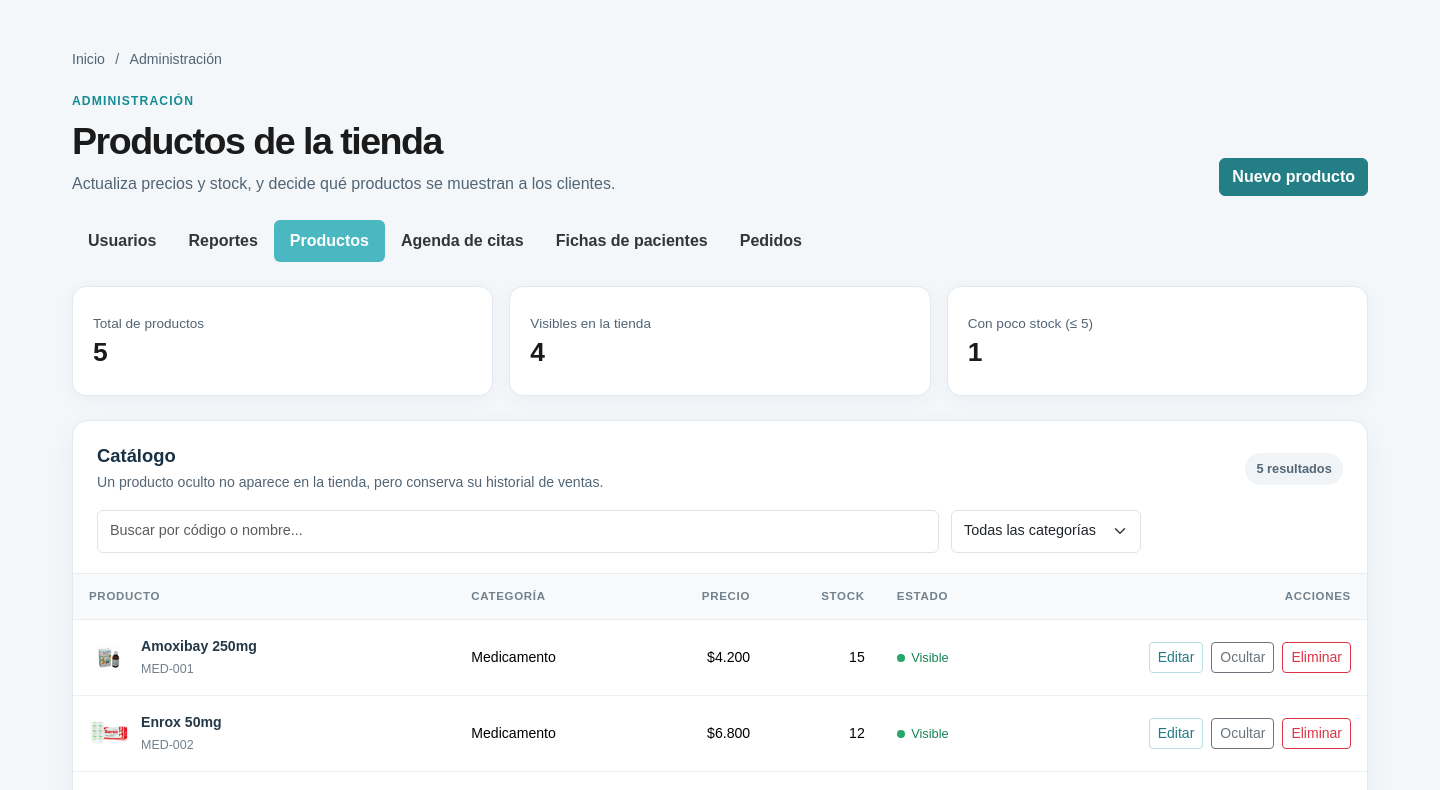
Test case: Productos (administración) › avisa cuando ningún producto coincide
Step 1. Type "zzzz" into the field named "Buscar productos" → (518, 531), box left=97, top=510, right=939, bottom=553
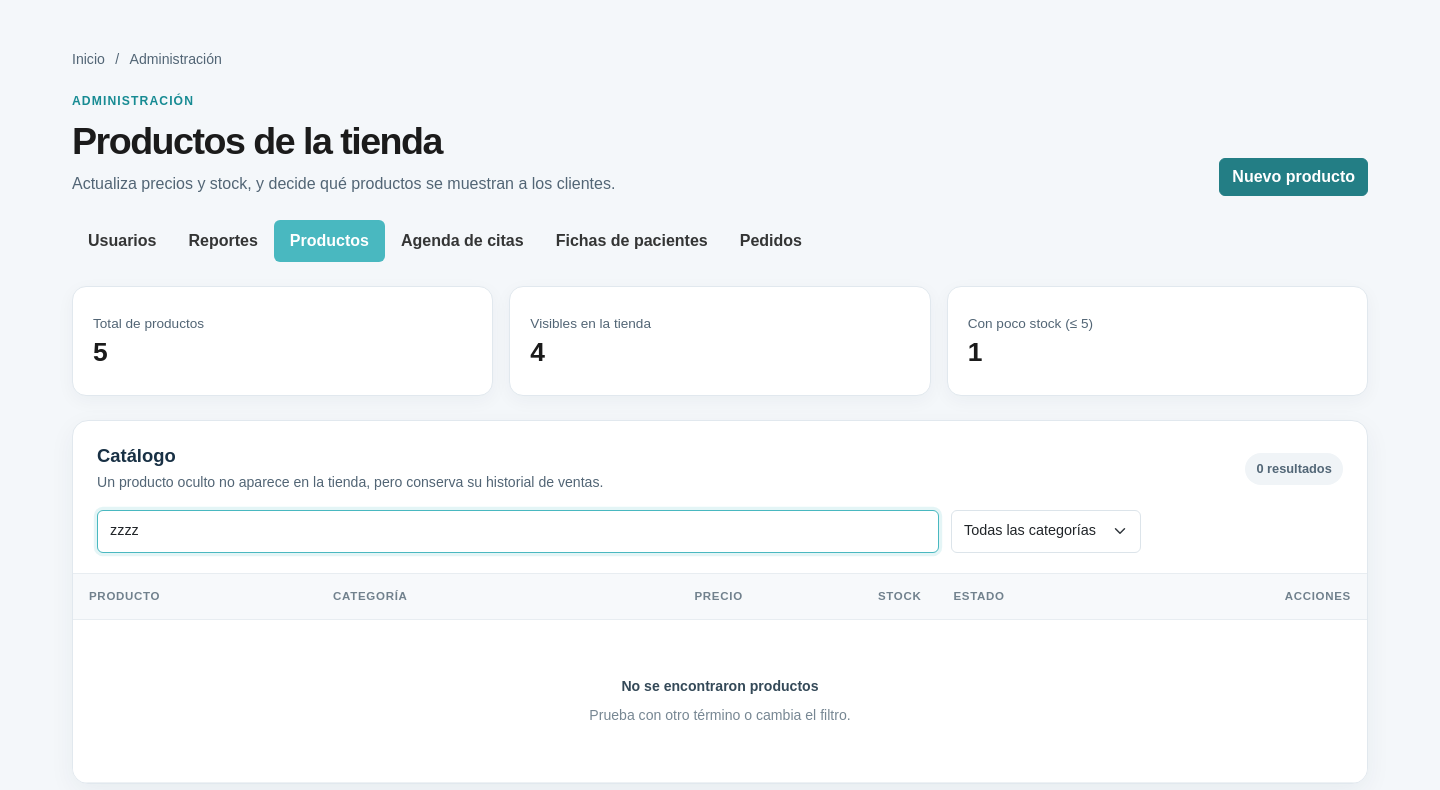
expect the text "No se encontraron productos" is shown: met, box left=621, top=675, right=818, bottom=698
